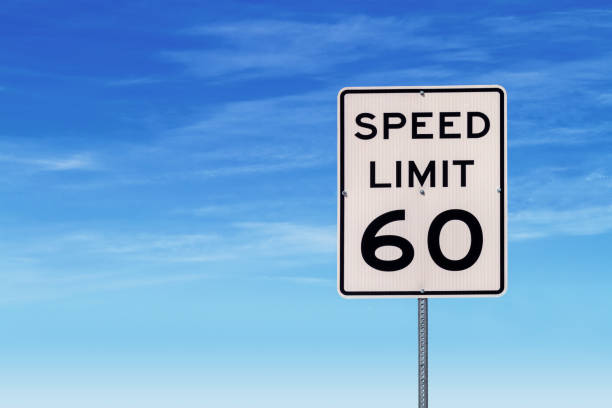SpeedLimitSign: (334, 83, 508, 299)
